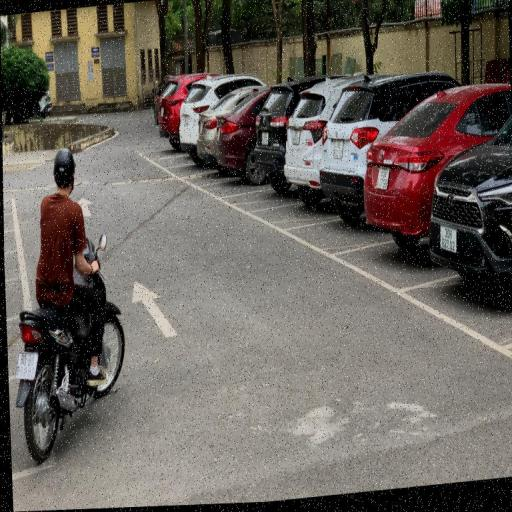bike: (4, 136, 128, 471)
numberplate: (12, 350, 38, 382)
with helmet: (51, 147, 77, 187)
